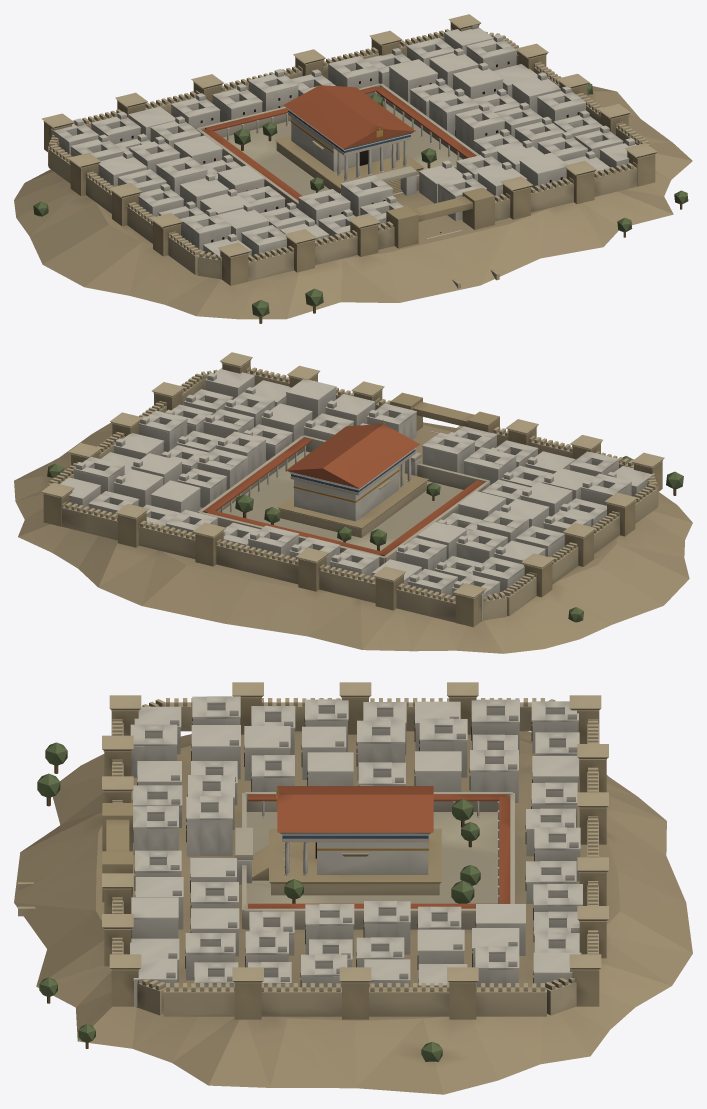
The model's file is byrsa.glb.
The picture shows the model from 3 angles, top to bottom: view 1: azimuth 30°, elevation 25°; view 2: azimuth 150°, elevation 25°; view 3: azimuth 270°, elevation 25°; orthographic projection. The views are drawn at different scales.
Parts seen in each view (by area): view 1: p0_hill, p2_houses, p1_temple; view 2: p0_hill, p2_houses, p1_temple; view 3: p0_hill, p2_houses, p1_temple.
Boxes of the visible parts, x1,y1,x2,y2 form: p0_hill: (14,14,692,319); p2_houses: (33,24,688,323); p1_temple: (196,83,499,288); p0_hill: (14,352,692,653); p2_houses: (47,368,683,622); p1_temple: (198,426,490,566); p0_hill: (14,682,692,1094); p2_houses: (37,696,582,1061); p1_temple: (18,792,514,929).
Size of the model in its own units: 239 by 32.86 by 177.
